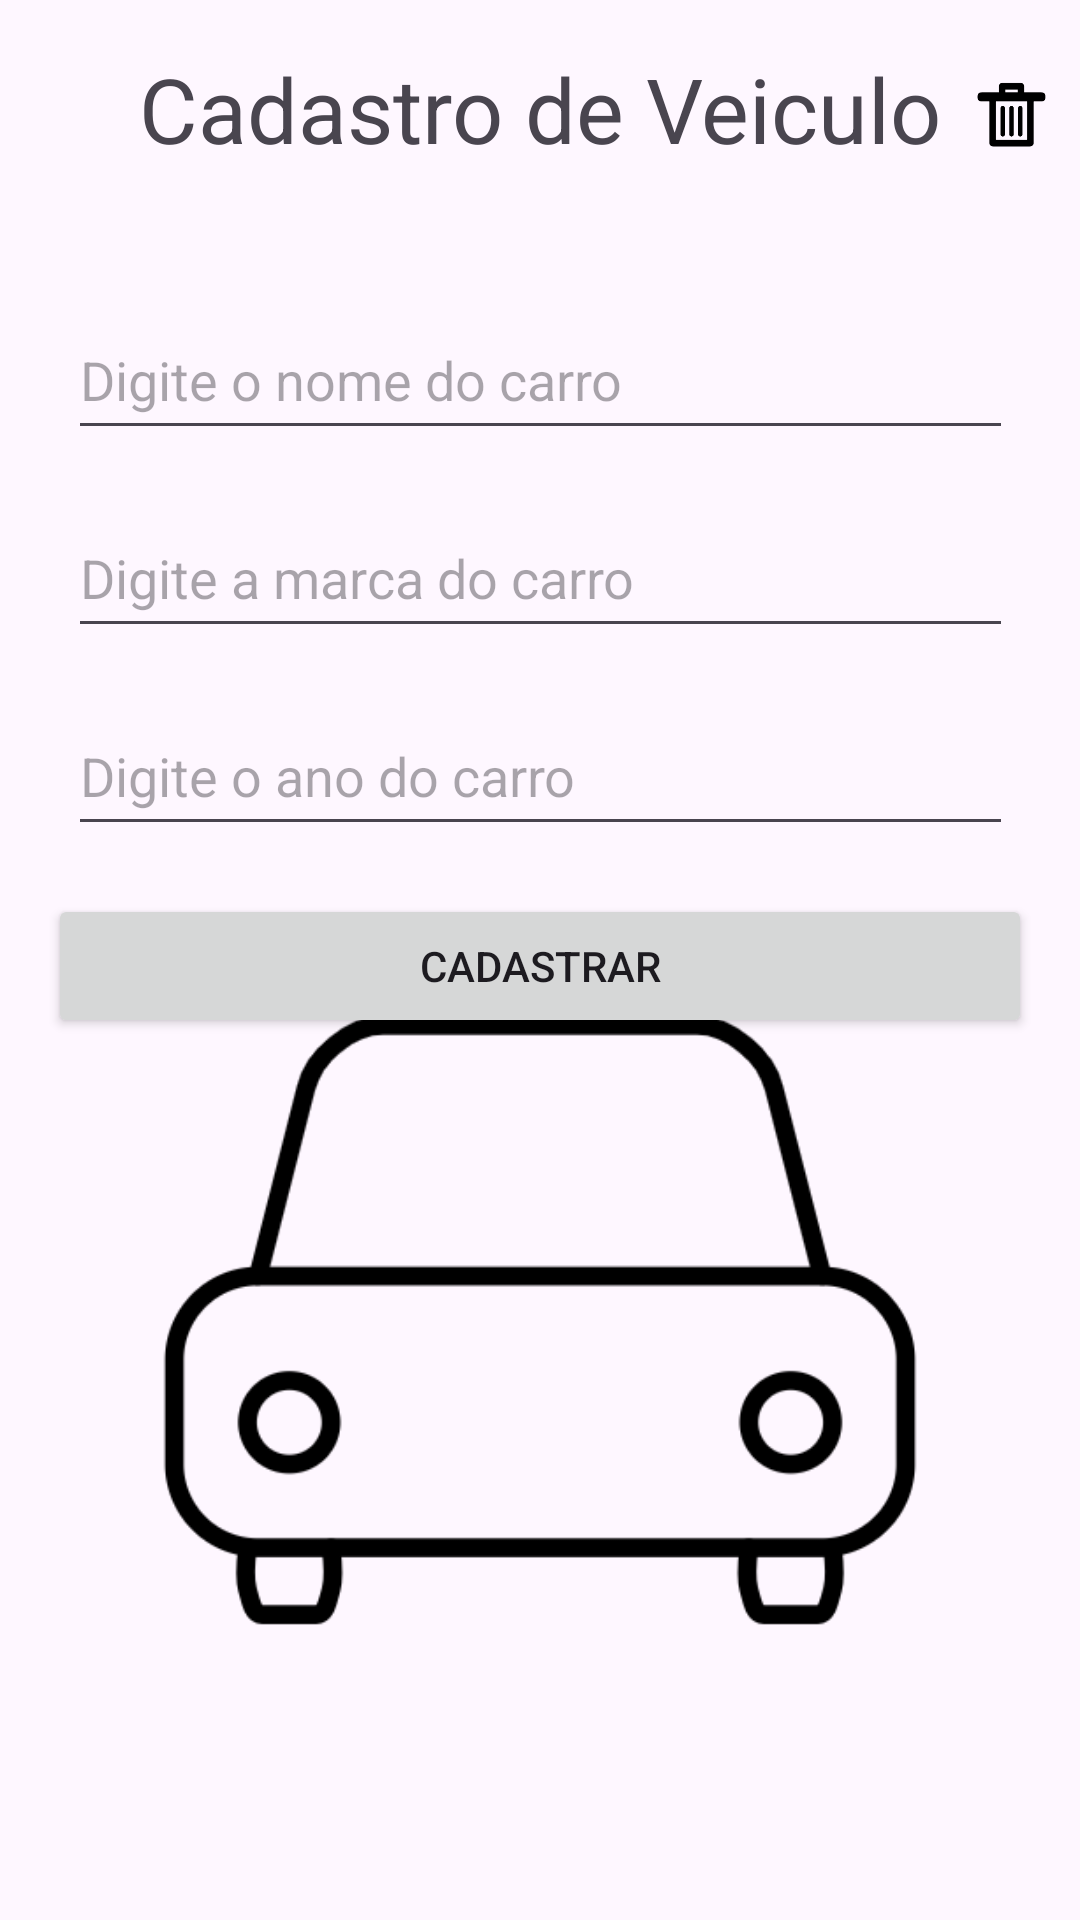

Named icons in this screenshot (1080*1920) and their centers, (x,y):
bin: (1011,115)
